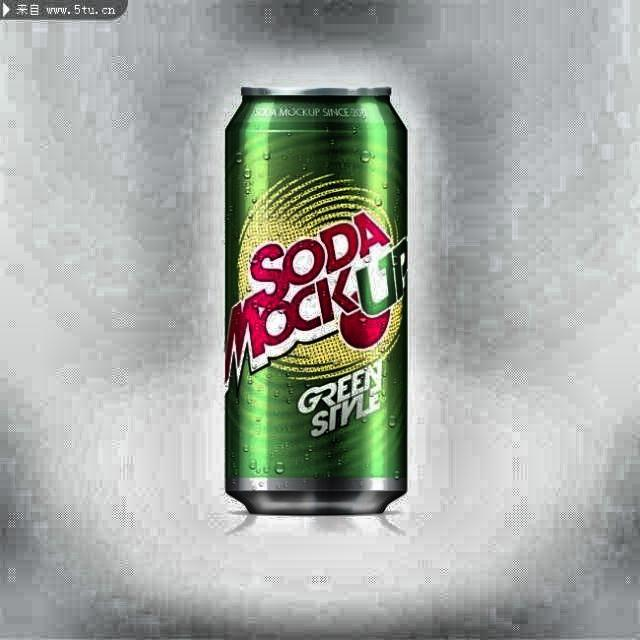can: (209, 70, 421, 537)
